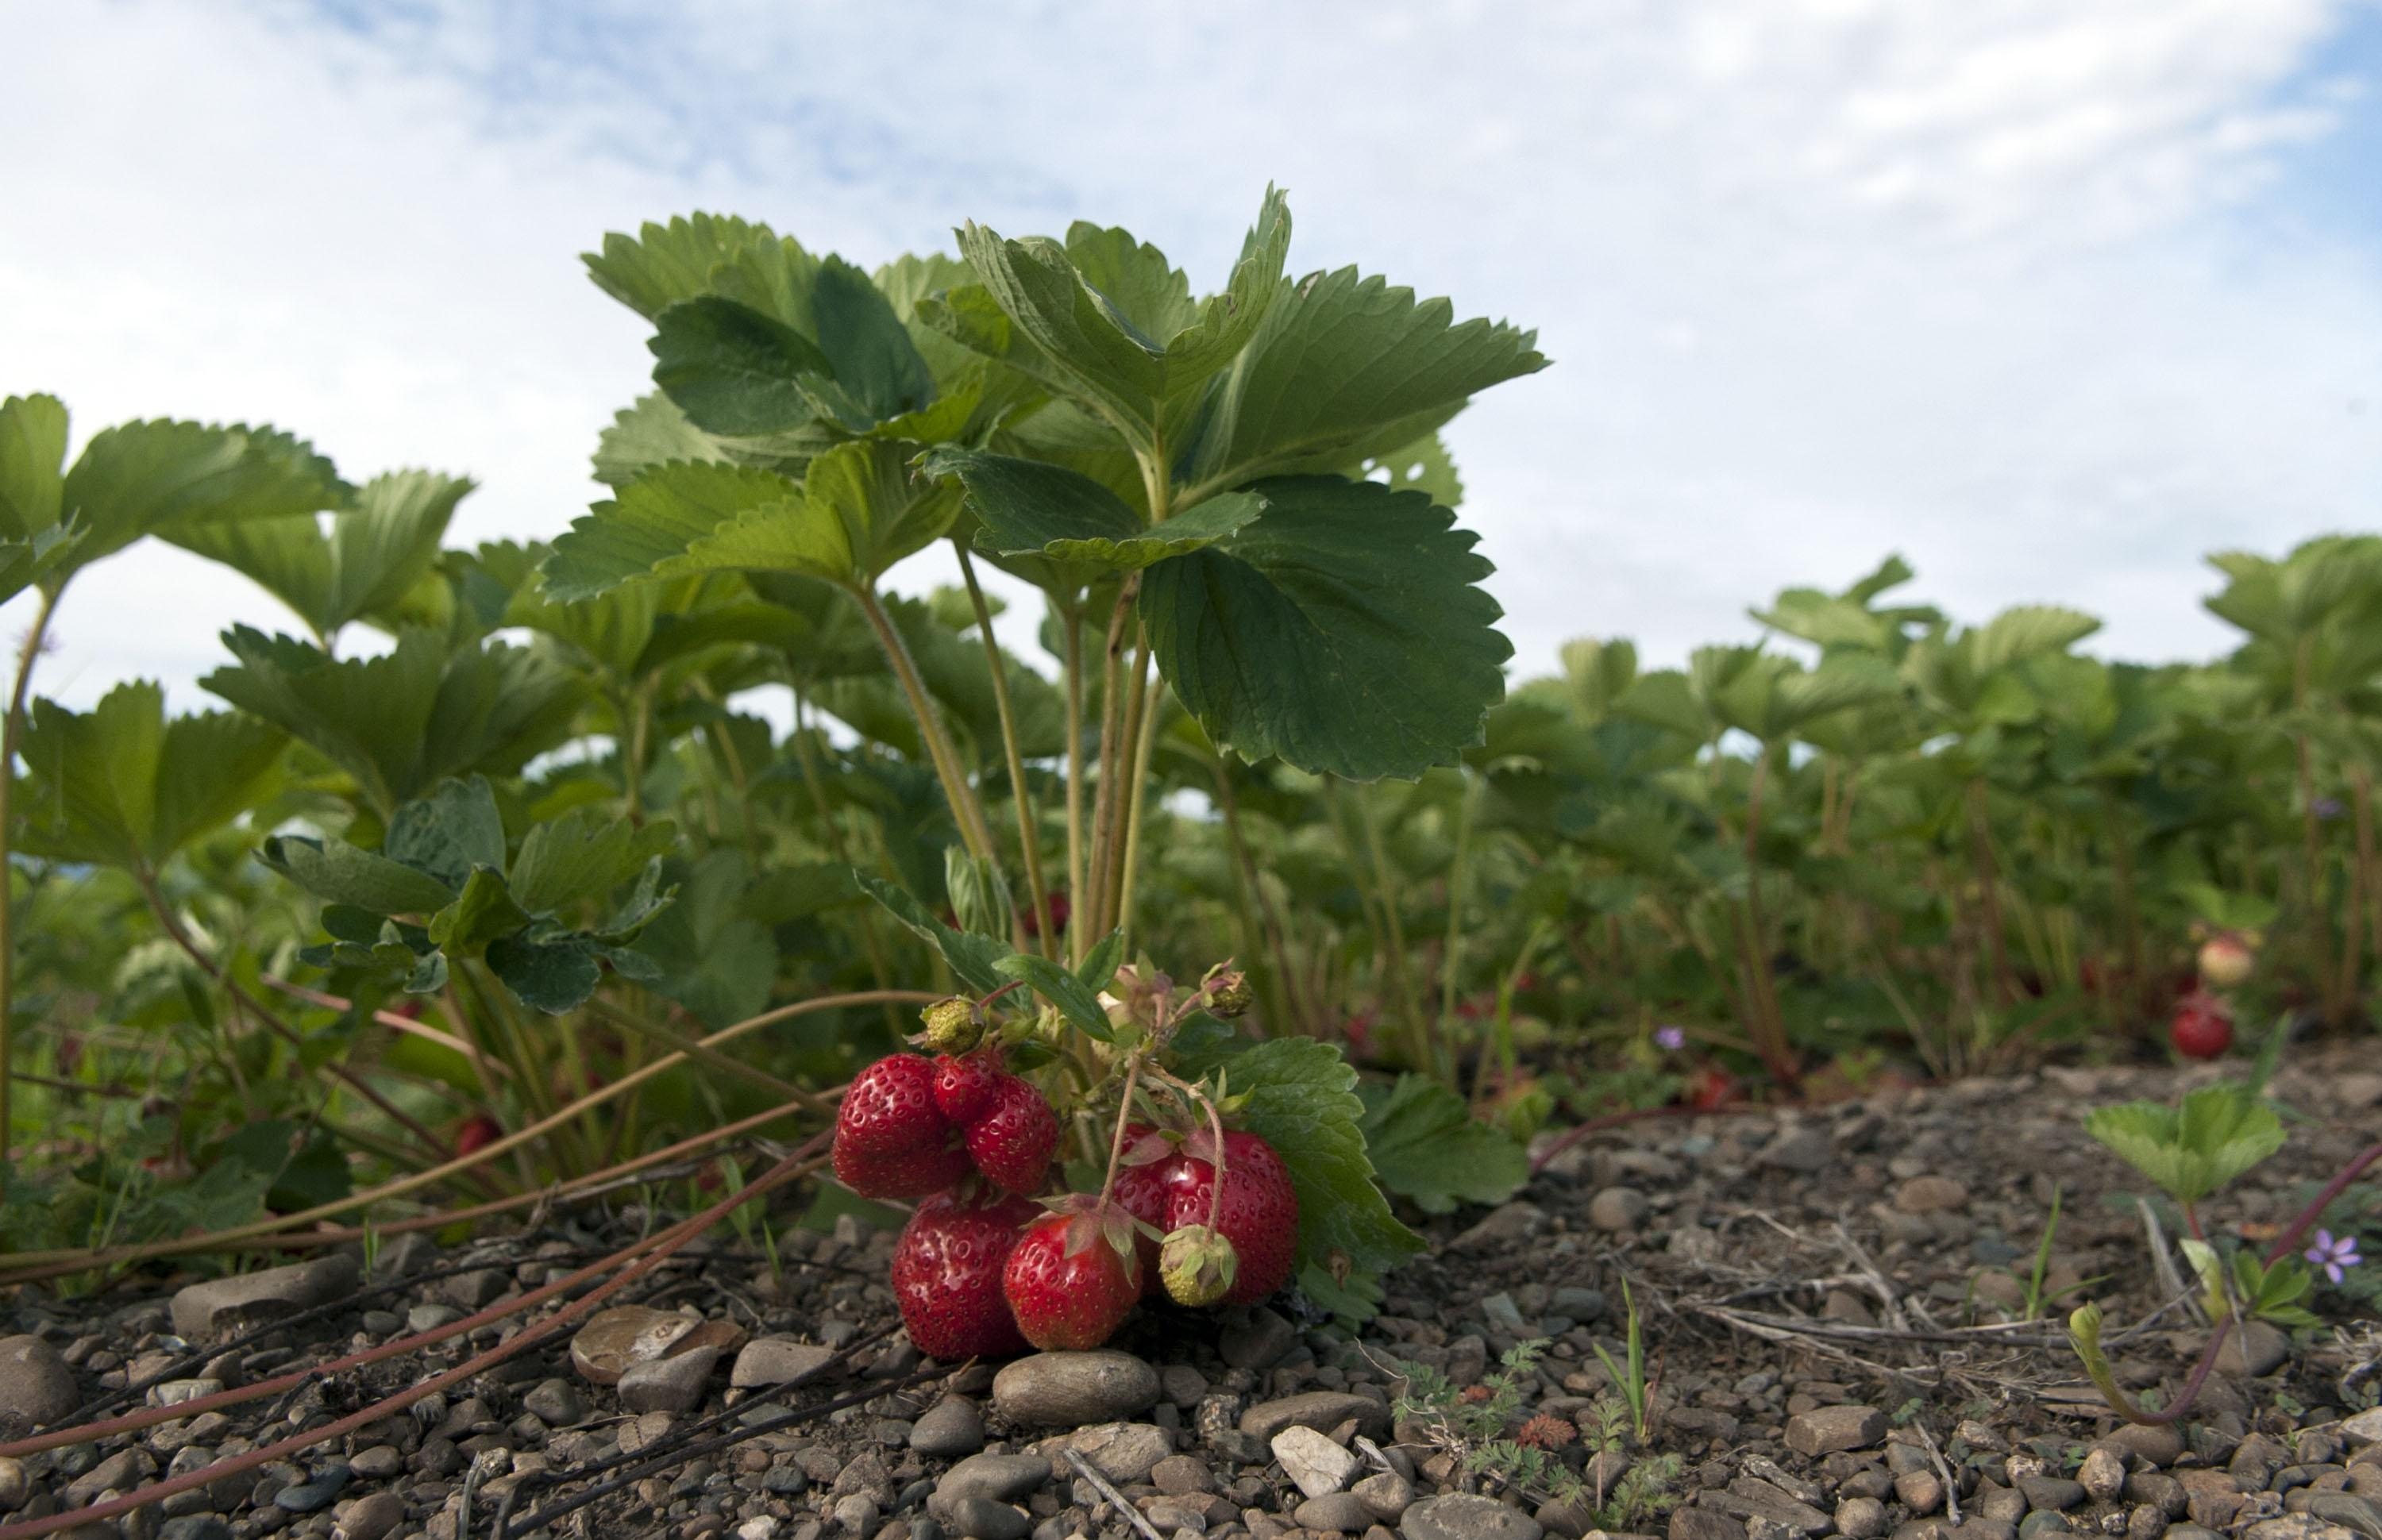ripe_strawberry: (1113, 1122, 1311, 1318), (833, 1049, 979, 1203), (885, 1194, 1019, 1361), (1003, 1196, 1144, 1354), (964, 1071, 1068, 1194), (2158, 1004, 2243, 1064), (932, 1049, 997, 1125)
unripe_strawberry: (1156, 1224, 1240, 1306), (2193, 922, 2260, 986)
